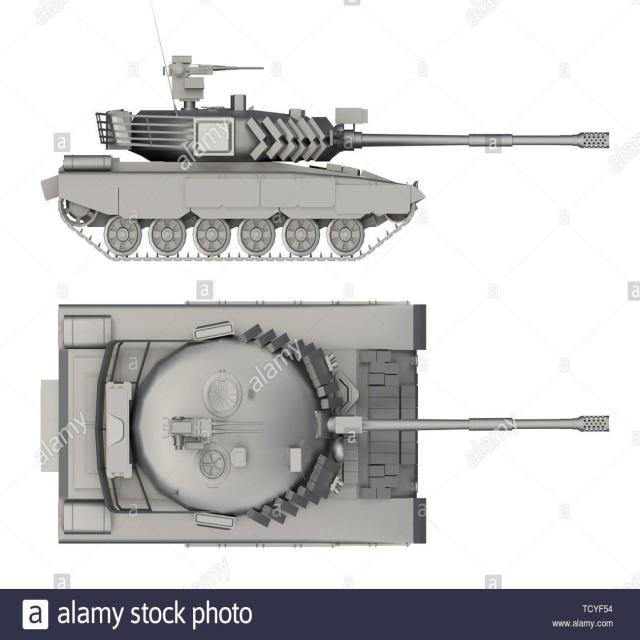Tanks: (16, 282, 496, 548), (42, 40, 618, 258)
